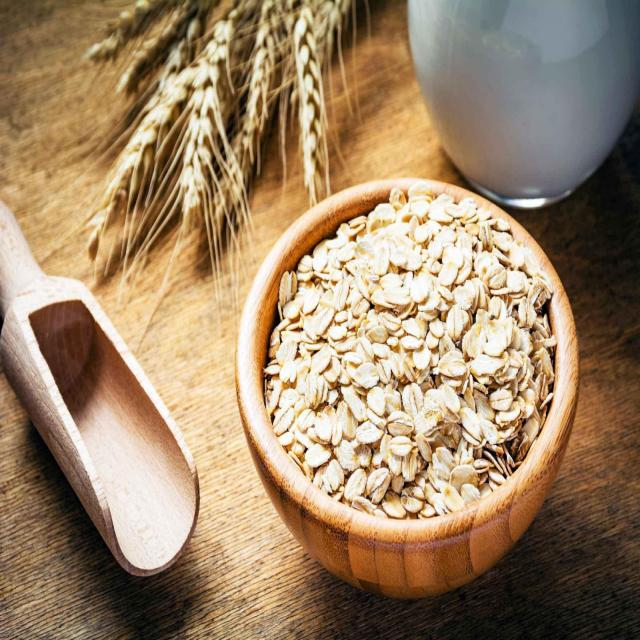avena: (245, 182, 559, 550)
